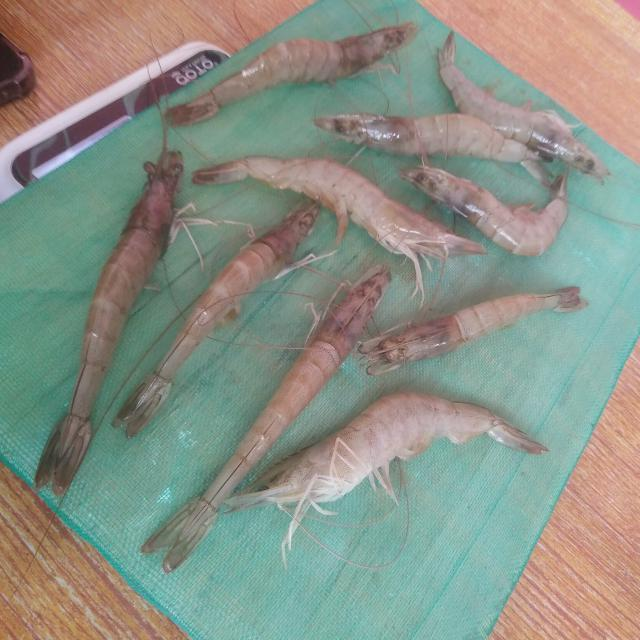shrimp: (141, 266, 391, 574), (226, 393, 549, 562), (33, 148, 182, 497), (112, 204, 319, 438), (192, 157, 486, 306), (166, 21, 419, 125), (439, 31, 610, 181), (358, 287, 589, 376), (313, 112, 550, 183), (400, 165, 570, 256)
